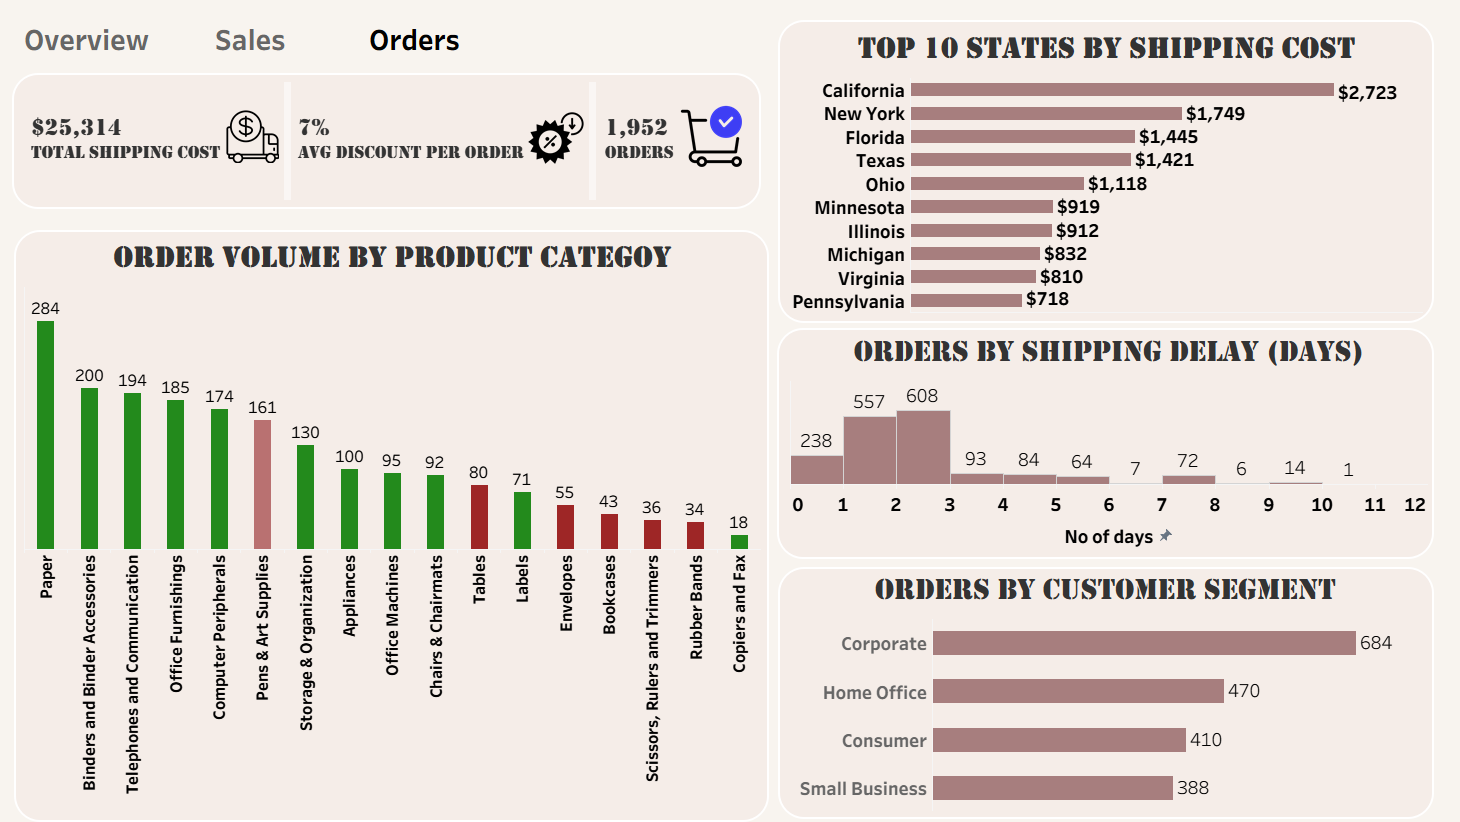

The page's visual inventory and layout, read from the dashboard file:
{"tool":"tableau","page":{"name":"Orders","canvas":[1000,1000],"units":"permille","ordinal":1},"visuals":[{"type":"worksheet","title":"db order","mark":"Automatic","box":[11.5,33.5,985.8,944.6]},{"type":"dashboard-object","box":[13.5,51.1,110.8,56.8]},{"type":"dashboard-object","box":[124.3,51.1,110.8,56.8]},{"type":"text","box":[235.1,51.1,110.1,56.8]},{"type":"worksheet","title":"Top 10 Shipping States Cost","mark":"Automatic","rows":["State or Province"],"cols":["Shipping Cost"],"box":[543.9,65.7,427.7,325.3]},{"type":"worksheet","title":"Total Ship cost","mark":"Automatic","box":[25.7,124.6,180.4,136.1]},{"type":"worksheet","title":"Avg discount","mark":"Automatic","box":[206.1,124.6,207.4,136.1]},{"type":"worksheet","title":"# of Orders","mark":"Automatic","box":[413.5,124.6,87.2,136.1]},{"type":"text","box":[202,128,4.7,134.9]},{"type":"text","box":[408.1,128,4.7,134.9]},{"type":"image","param":"Image/trolley-cart_4266827.png","box":[469.6,154.6,41.9,73.8]},{"type":"image","param":"Image/discount_14121722.png","box":[365.5,160.3,46.6,69.2]},{"type":"image","param":"Image/shipping-cost_12247481.png","box":[160.8,167.2,50,53.1]},{"type":"worksheet","title":"Category Performance","mark":"Automatic","rows":["Orders_7A4C21A6E159450C8860F1F0A087996D"],"cols":["Product Sub-Category"],"box":[26.4,303.3,498,665.5]},{"type":"worksheet","title":"Shipping Delay","mark":"Bar","rows":["Order ID"],"cols":["Calculation_2331738752629338128"],"box":[543.9,410.6,431.1,256.1]},{"type":"worksheet","title":"Orders by Customer Segment","mark":"Automatic","rows":["Customer Segment"],"cols":["Orders_7A4C21A6E159450C8860F1F0A087996D"],"box":[545.3,680.5,423.7,276.8]}]}

Visuals, with their boxes on the dashboard's canvas, which has no fixed pixel size, in thousandths of its width and height (x1, y1, x2, y2). These are canvas units, not pixel positions in the 1460x822 screenshot, which may show the page scaled, cropped or inside an application window:
"db order" worksheet: pyautogui.locateOnScreen(12, 34, 997, 978)
dashboard-object: pyautogui.locateOnScreen(14, 51, 124, 108)
dashboard-object: pyautogui.locateOnScreen(124, 51, 235, 108)
text: pyautogui.locateOnScreen(235, 51, 345, 108)
"Top 10 Shipping States Cost" worksheet: pyautogui.locateOnScreen(544, 66, 972, 391)
"Total Ship cost" worksheet: pyautogui.locateOnScreen(26, 125, 206, 261)
"Avg discount" worksheet: pyautogui.locateOnScreen(206, 125, 414, 261)
"# of Orders" worksheet: pyautogui.locateOnScreen(414, 125, 501, 261)
text: pyautogui.locateOnScreen(202, 128, 207, 263)
text: pyautogui.locateOnScreen(408, 128, 413, 263)
image: pyautogui.locateOnScreen(470, 155, 512, 228)
image: pyautogui.locateOnScreen(366, 160, 412, 230)
image: pyautogui.locateOnScreen(161, 167, 211, 220)
"Category Performance" worksheet: pyautogui.locateOnScreen(26, 303, 524, 969)
"Shipping Delay" worksheet (Bar marks): pyautogui.locateOnScreen(544, 411, 975, 667)
"Orders by Customer Segment" worksheet: pyautogui.locateOnScreen(545, 680, 969, 957)
